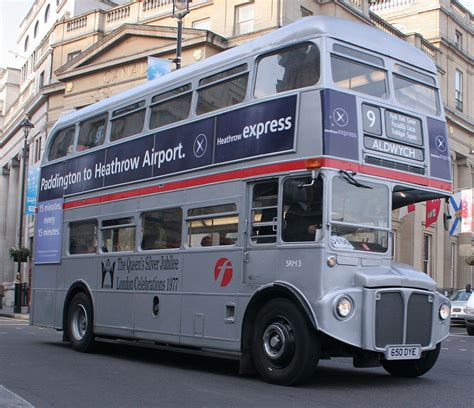bus: (30, 26, 448, 377)
